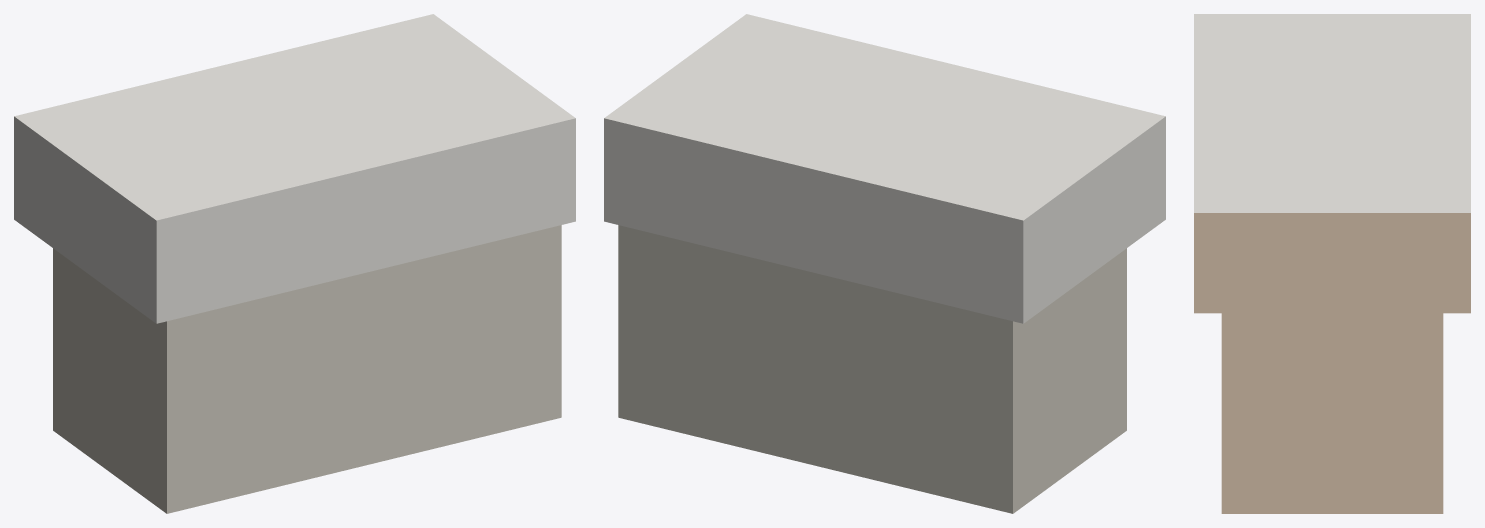
Rendered from Tiered_Retaining_Wall_End_1x1_Top.glb.
3 views of the same model, side by side, from view 1: azimuth 30°, elevation 25°; view 2: azimuth 150°, elevation 25°; view 3: azimuth 270°, elevation 25° (orthographic). The views are drawn at different scales.
Parts seen in each view (by area): view 1: Tiered_Retaining_Wall_End_1x1_Top; view 2: Tiered_Retaining_Wall_End_1x1_Top; view 3: Tiered_Retaining_Wall_End_1x1_Top.
Boxes of the visible parts, x1,y1,x2,y2 form: Tiered_Retaining_Wall_End_1x1_Top: (14,14,575,513); Tiered_Retaining_Wall_End_1x1_Top: (604,14,1165,513); Tiered_Retaining_Wall_End_1x1_Top: (1194,14,1470,513).
Bounding box in the file's own units: 53.12 × 37.5 × 31.25.
